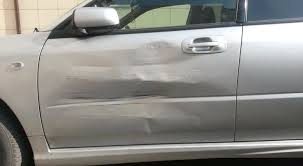Dent: (44, 69, 230, 134), (131, 41, 190, 65)
